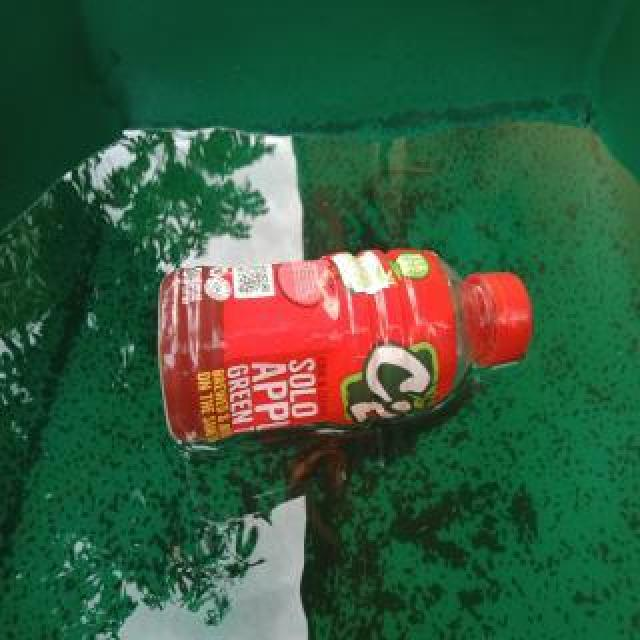bottle: (156, 246, 532, 444)
